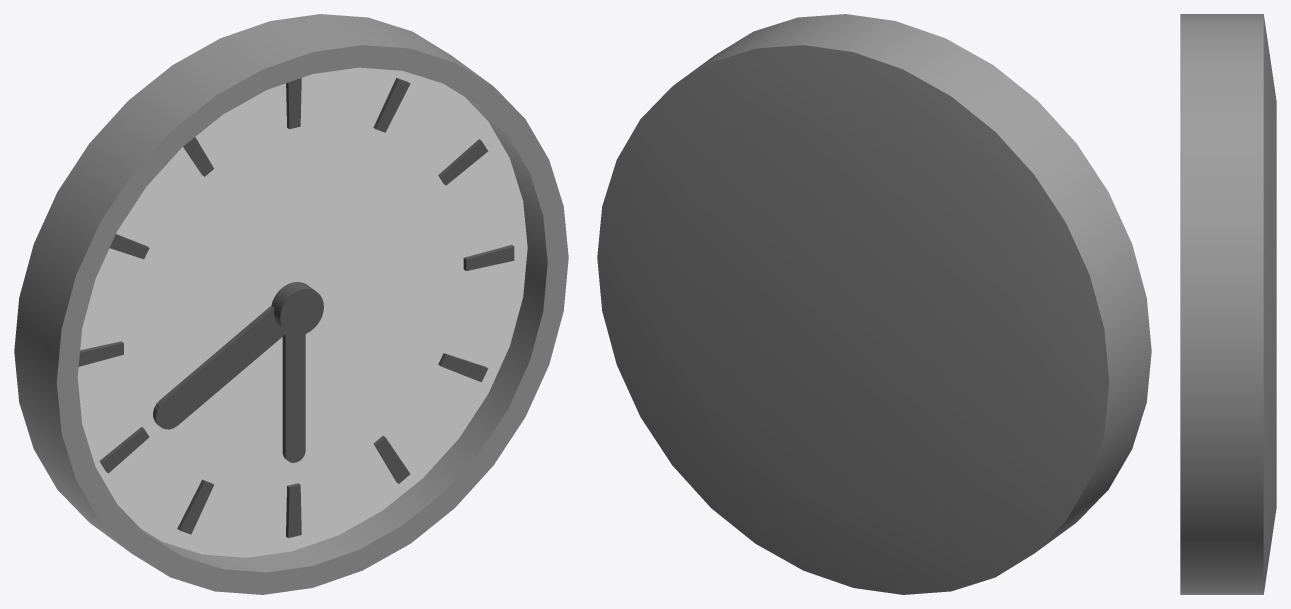
Rendered from eight_thirty.glb.
3 renders of one model, left to right at view 1: azimuth 30°, elevation 25°; view 2: azimuth 150°, elevation 25°; view 3: azimuth 270°, elevation 25°, orthographic.
Visible parts, largest first — view 1: Circle.2480, Circle.2481, Plane.284, Plane.285; view 2: Circle.2480; view 3: Circle.2480.
Boxes of the visible parts, x1,y1,x2,y2 form: Circle.2480: (14,14,568,594); Circle.2481: (78,78,514,537); Plane.284: (153,305,287,429); Plane.285: (282,333,305,462); Circle.2480: (597,14,1151,594); Circle.2480: (1180,14,1276,594).
Bounding box in the file's own units: 2.33 × 2.33 × 0.387.
1 material, 1 textured.
